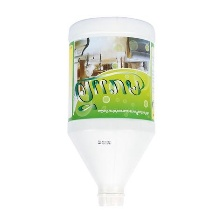cleaning_solution: (64, 14, 158, 209)
